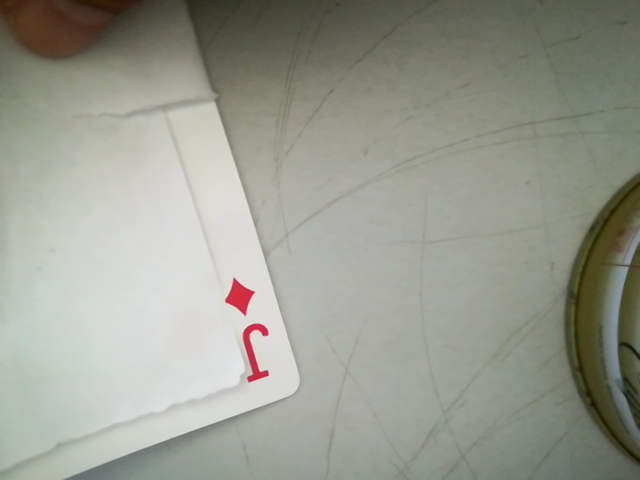fk j: (214, 267, 282, 393)
